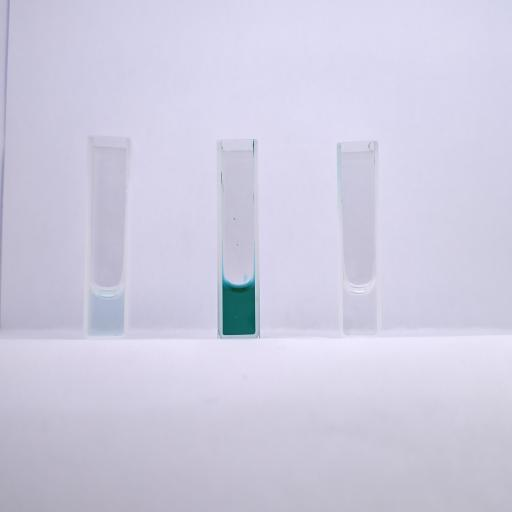cuvette: (81, 132, 133, 340), (215, 135, 263, 339), (336, 138, 382, 339)
liquid: (88, 284, 124, 334), (343, 282, 376, 335), (223, 281, 255, 334)
